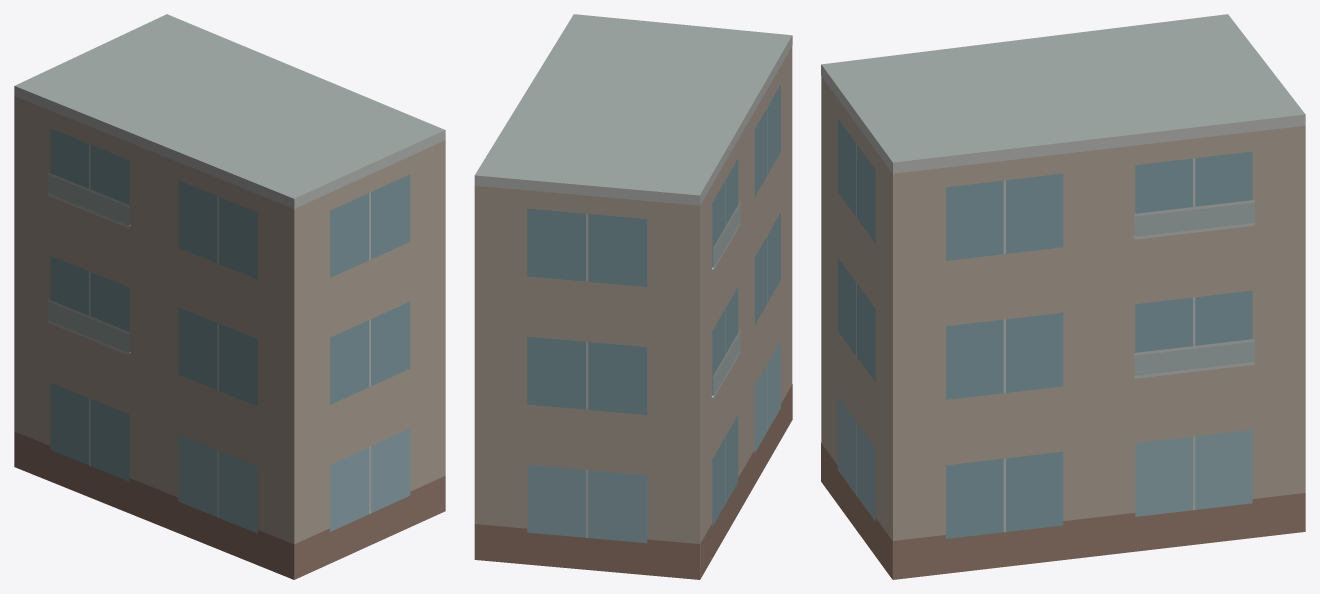
File: survey-upis-33043421.glb
3 views of the same model, side by side, from view 1: azimuth 30°, elevation 25°; view 2: azimuth 150°, elevation 25°; view 3: azimuth 270°, elevation 25° (orthographic). The views are drawn at different scales.
Parts seen in each view (by area): view 1: survey-upis-33043421.tmp; view 2: survey-upis-33043421.tmp; view 3: survey-upis-33043421.tmp.
Boxes of the visible parts, x1,y1,x2,y2 form: survey-upis-33043421.tmp: (14, 14, 445, 579); survey-upis-33043421.tmp: (474, 14, 792, 579); survey-upis-33043421.tmp: (821, 14, 1305, 579).
Size of the model in its own units: 7 by 9.15 by 9.64.
